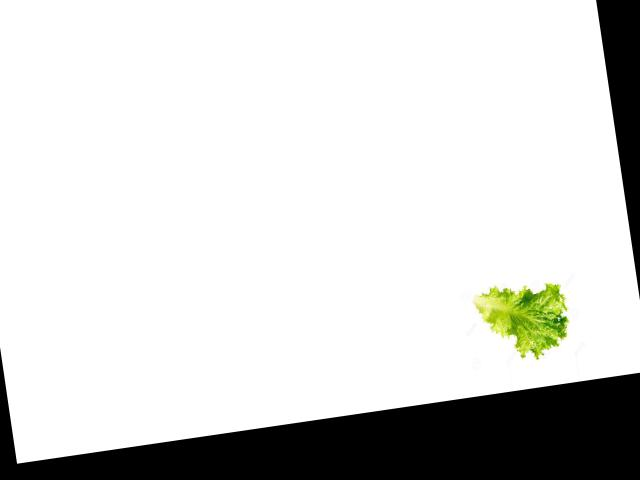lettuce: (470, 280, 574, 366)
